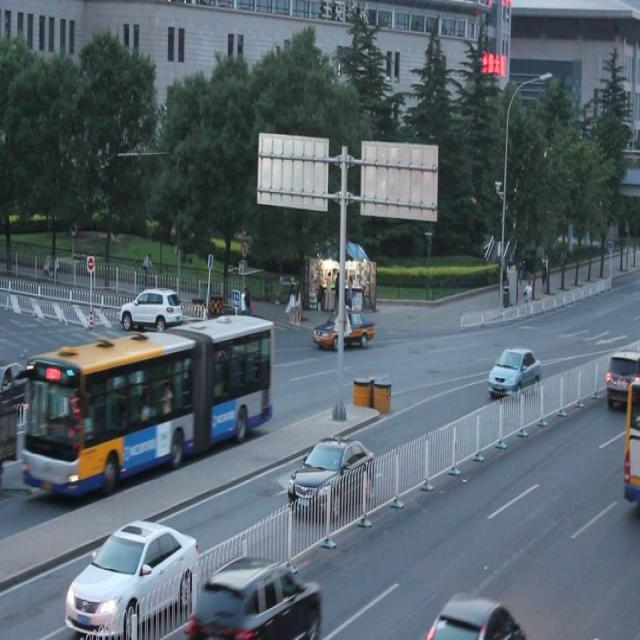car: (67, 516, 200, 627), (195, 553, 322, 640), (289, 435, 375, 512), (428, 592, 526, 640), (486, 342, 541, 394), (314, 306, 372, 352), (120, 289, 180, 330), (602, 347, 640, 406), (1, 357, 38, 415)
van: (28, 310, 272, 489), (617, 374, 640, 510)
